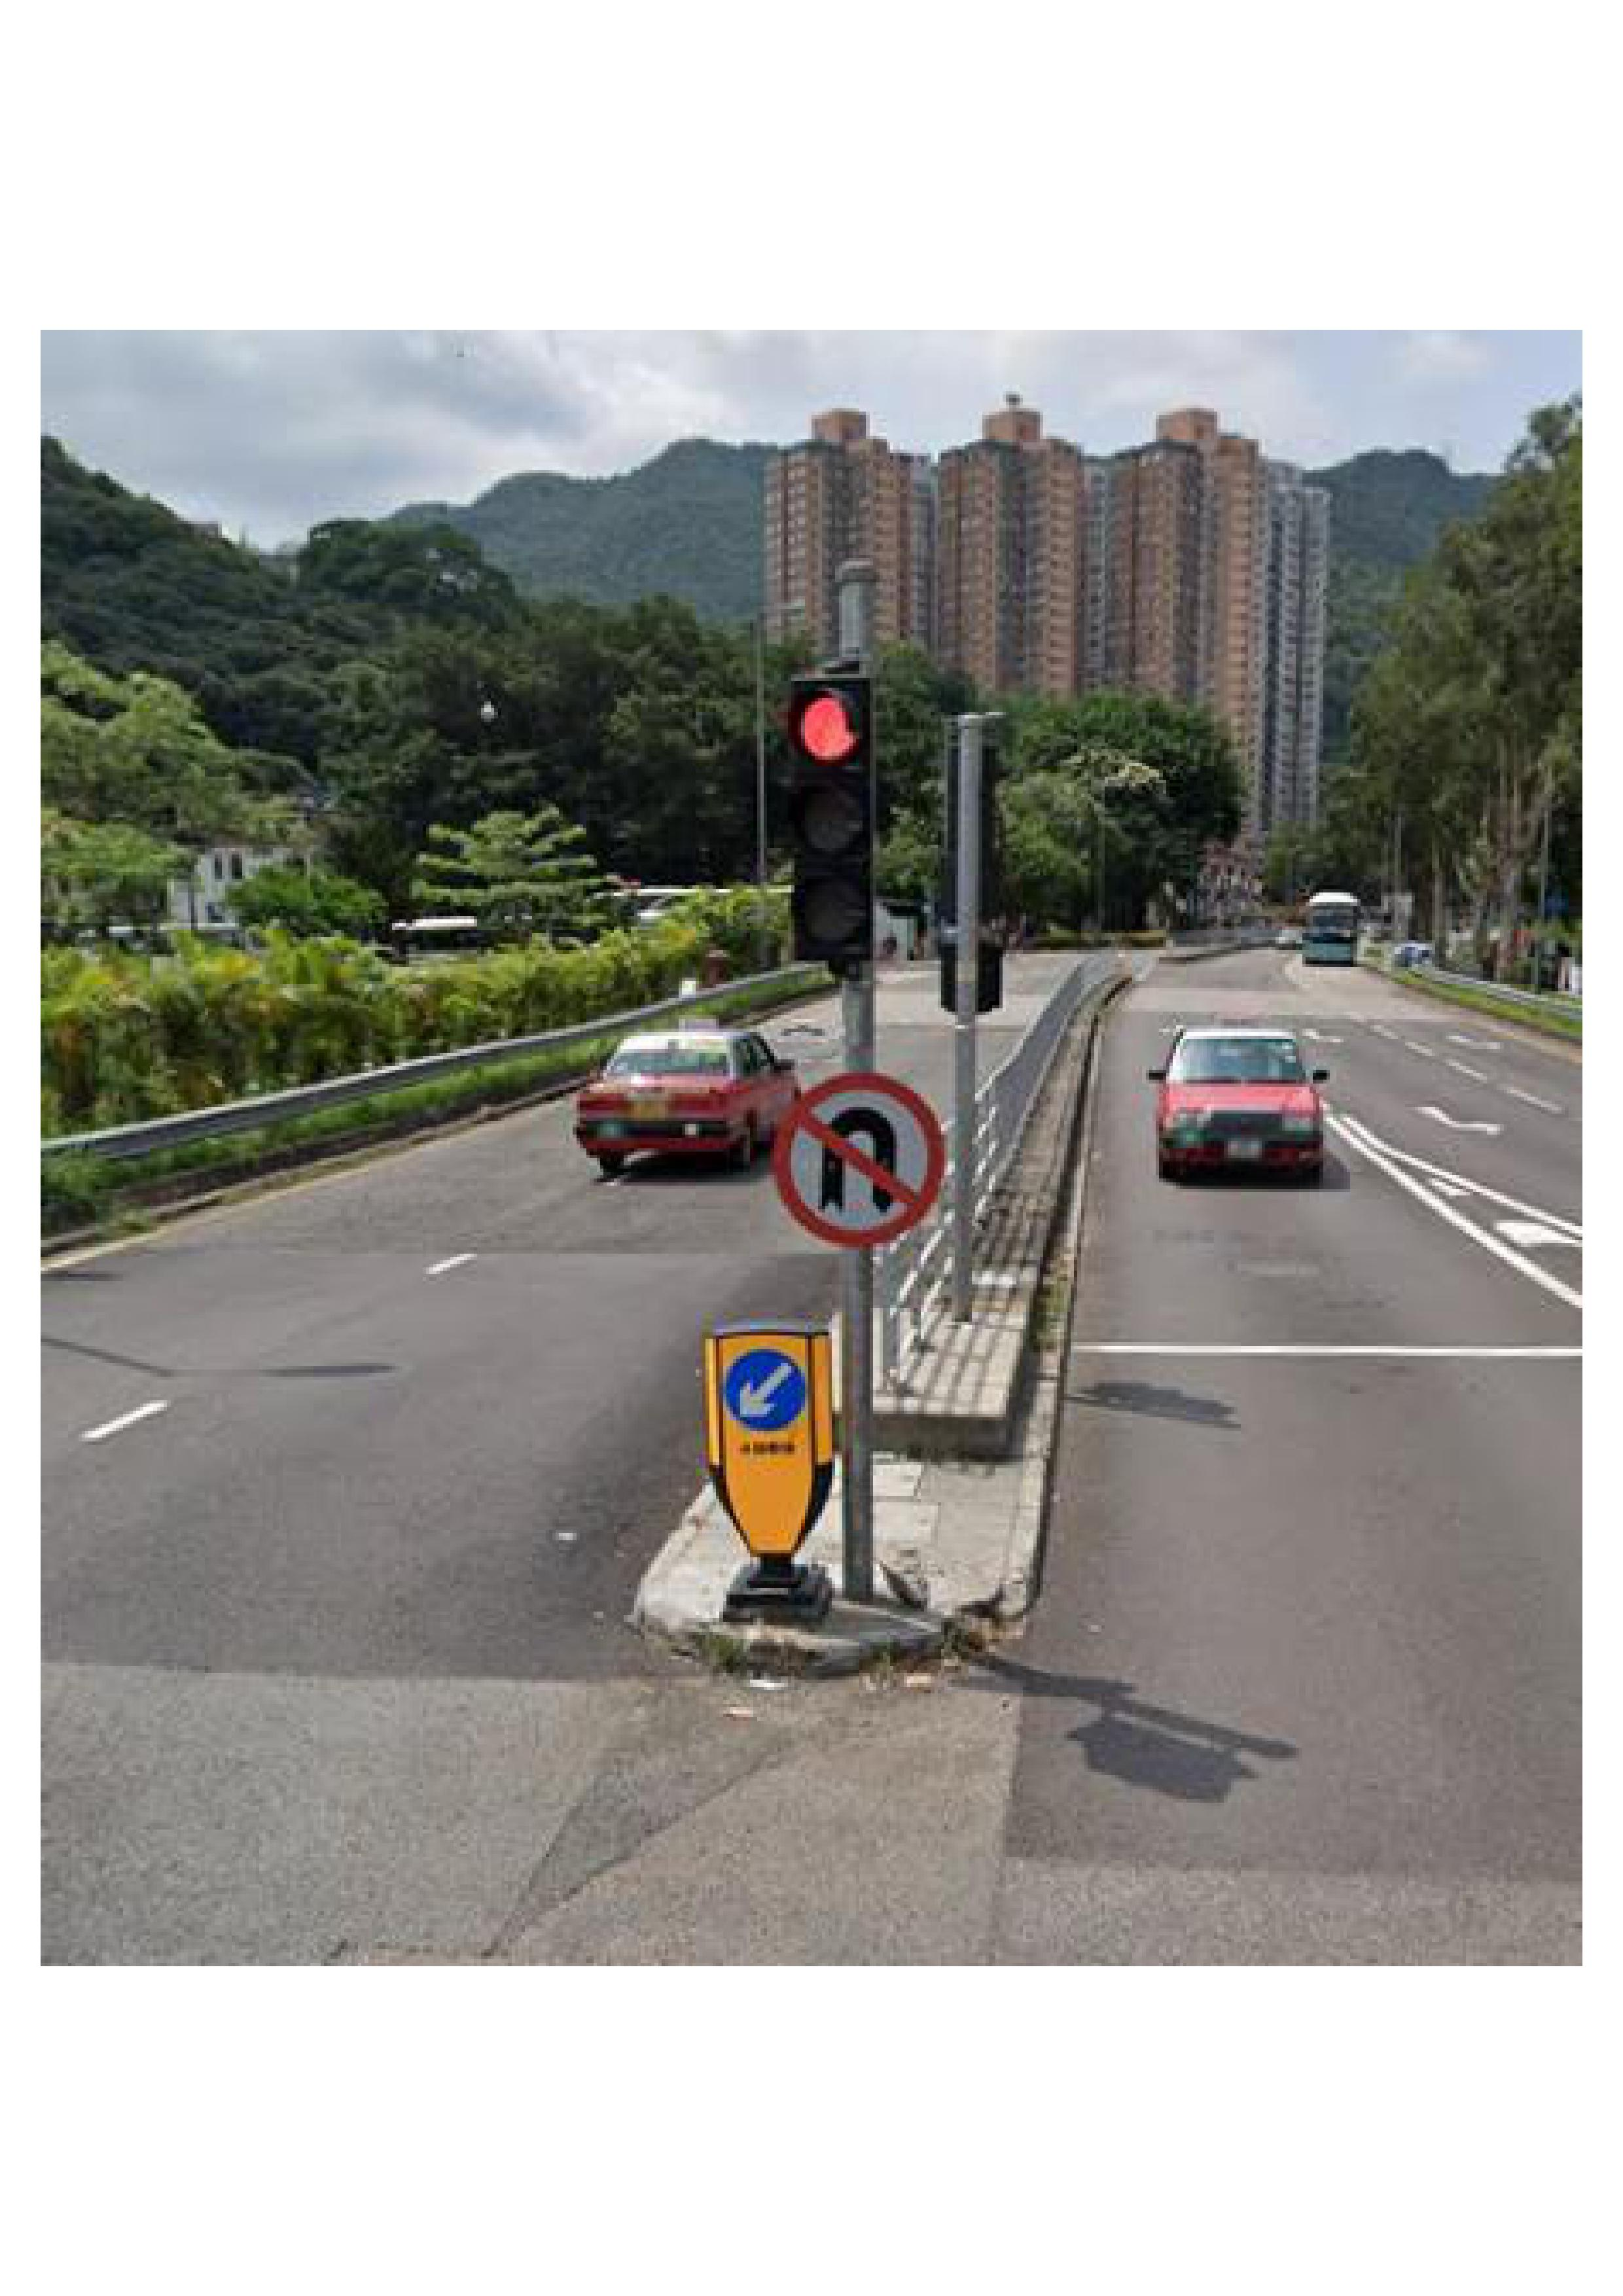No Uturn: (775, 1078, 963, 1255)
